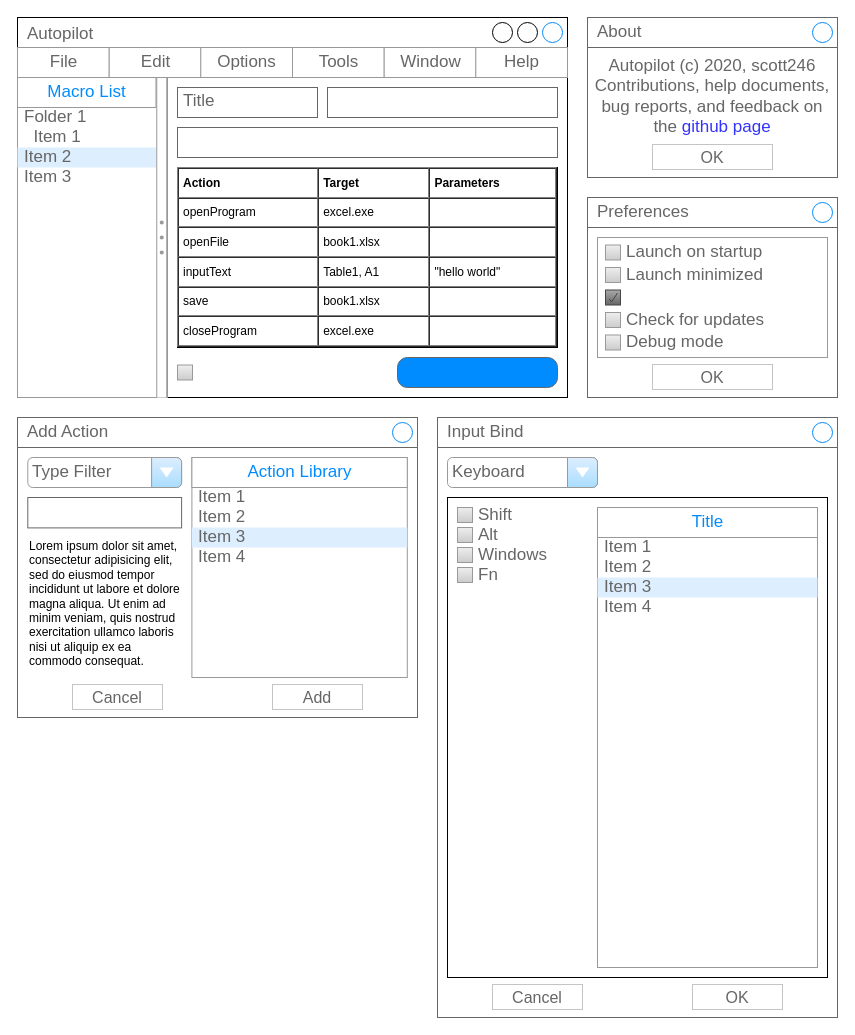
Image size: 855x1035. Some labels were removed from this diagram. The centre of each missing label's shape, as x and y in pixels:
Bind Combo (click to change): pixel 442 102
Description: pixel 367 142
Enabled: pixel 184 372
Filter: pixel 104 512
Keep on top: pixel 612 297
Record Actions: pixel 477 372
